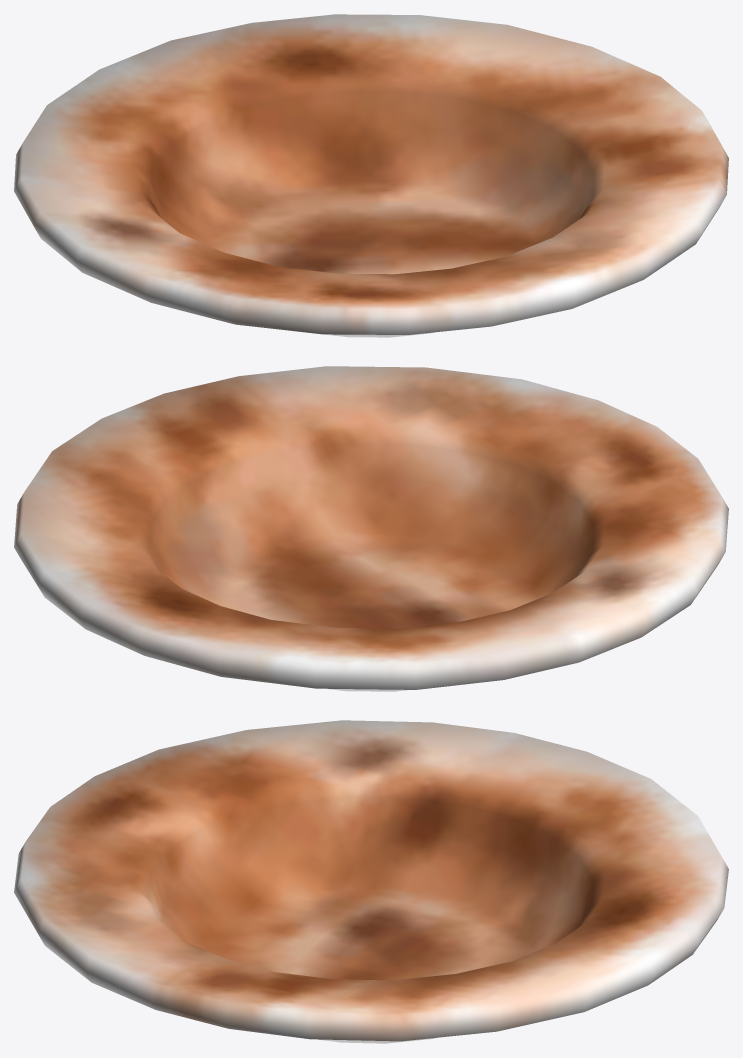
File: DirtyPlate.glb
3 renders of one model, top to bottom at view 1: azimuth 30°, elevation 25°; view 2: azimuth 150°, elevation 25°; view 3: azimuth 270°, elevation 25°, orthographic.
Parts seen in each view (by area): view 1: DirtyPlate; view 2: DirtyPlate; view 3: DirtyPlate.
Boxes of the visible parts, x1,y1,x2,y2 form: DirtyPlate: (14,14,728,337); DirtyPlate: (14,366,728,691); DirtyPlate: (14,720,728,1043).
Size of the model in its own units: 0.5565 by 0.0902 by 0.5565.
Materials: 1 (1 with a texture image).
